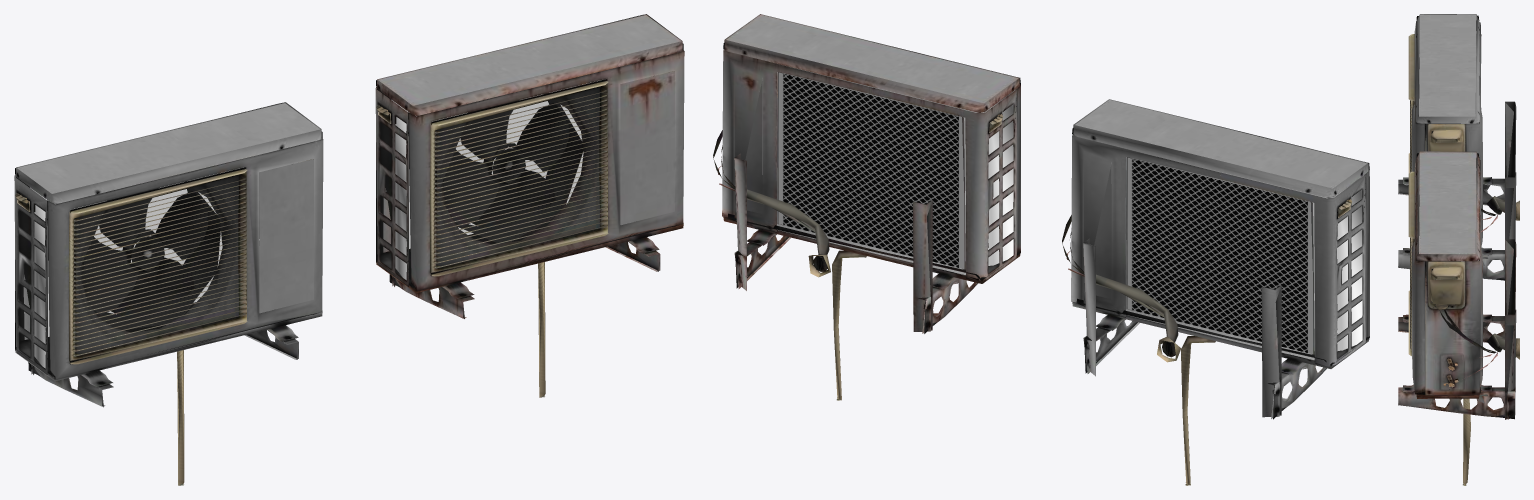
Rendered from ph_exterior_aircon_unit.glb.
The picture shows the model from 3 angles, left to right: view 1: azimuth 30°, elevation 25°; view 2: azimuth 150°, elevation 25°; view 3: azimuth 270°, elevation 25°; orthographic projection. The views are drawn at different scales.
Parts seen in each view (by area): view 1: exterior_aircon_unit; view 2: exterior_aircon_unit; view 3: exterior_aircon_unit.
Boxes of the visible parts, bbox=[...] form: exterior_aircon_unit: bbox=[14, 14, 684, 485]; exterior_aircon_unit: bbox=[713, 14, 1369, 485]; exterior_aircon_unit: bbox=[1398, 14, 1519, 485].
Size of the model in its own units: 1.8 by 0.9289 by 0.3743.
4 materials, 4 textured.
